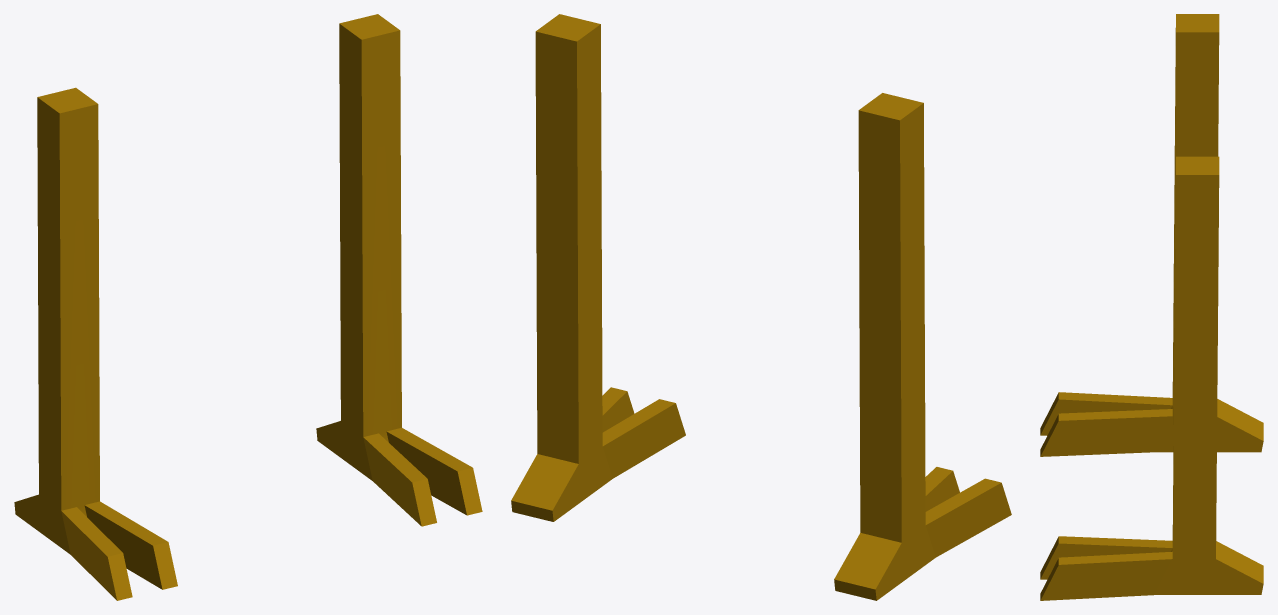
The model's file is Gallina_patas.fbx.
3 views of the same model, side by side, from view 1: azimuth 30°, elevation 25°; view 2: azimuth 150°, elevation 25°; view 3: azimuth 270°, elevation 25° (orthographic). The views are drawn at different scales.
Parts seen in each view (by area): view 1: Gallina_Patas; view 2: Gallina_Patas; view 3: Gallina_Patas.
Part boxes in pixels (left/top/right/bottom): Gallina_Patas: left=14, top=14, right=482, bottom=600; Gallina_Patas: left=511, top=14, right=1011, bottom=600; Gallina_Patas: left=1040, top=14, right=1263, bottom=600.
Bounding box in the file's own units: 2.25 × 2.55 × 1.23.
